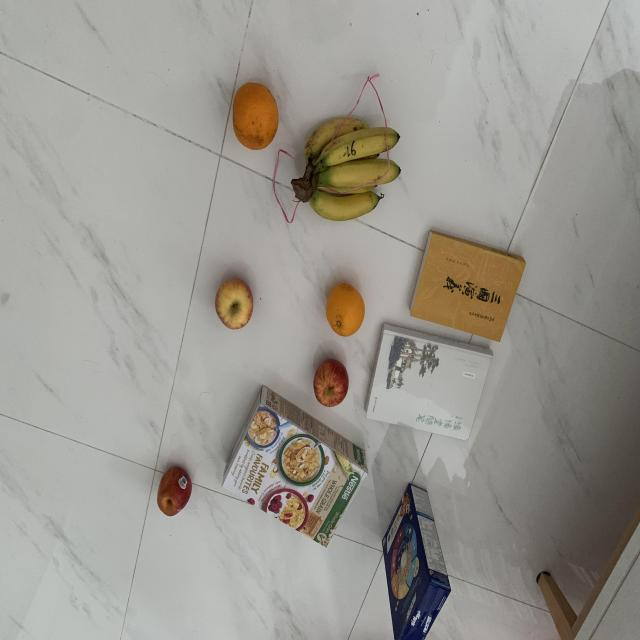Apple: (214, 273, 258, 333), (311, 355, 352, 415), (155, 465, 191, 523)
Banana: (291, 114, 403, 224)
Book: (364, 319, 498, 445), (406, 229, 528, 345)
Cerealbox: (217, 383, 369, 553), (379, 475, 457, 639)
Orange: (227, 81, 283, 155), (321, 281, 367, 339)
